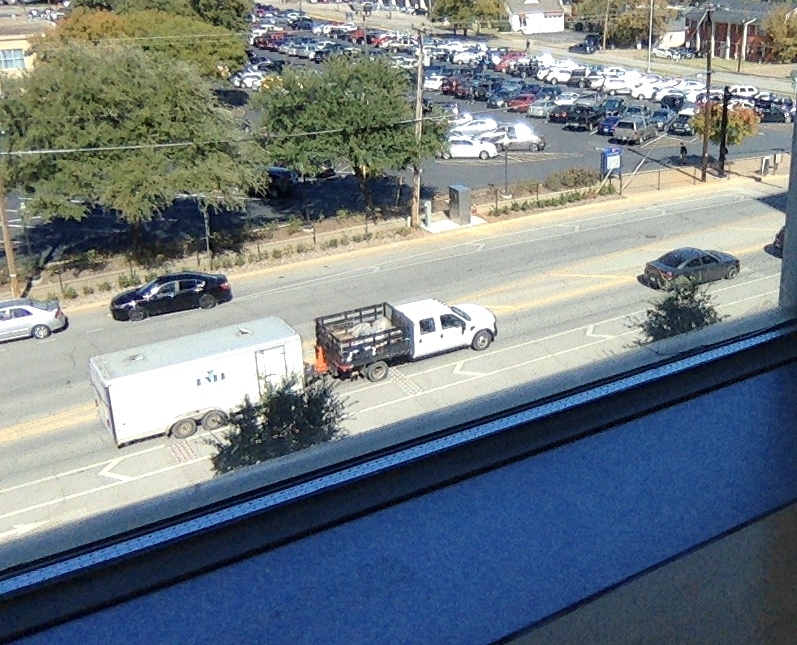car: (300, 300, 497, 386)
